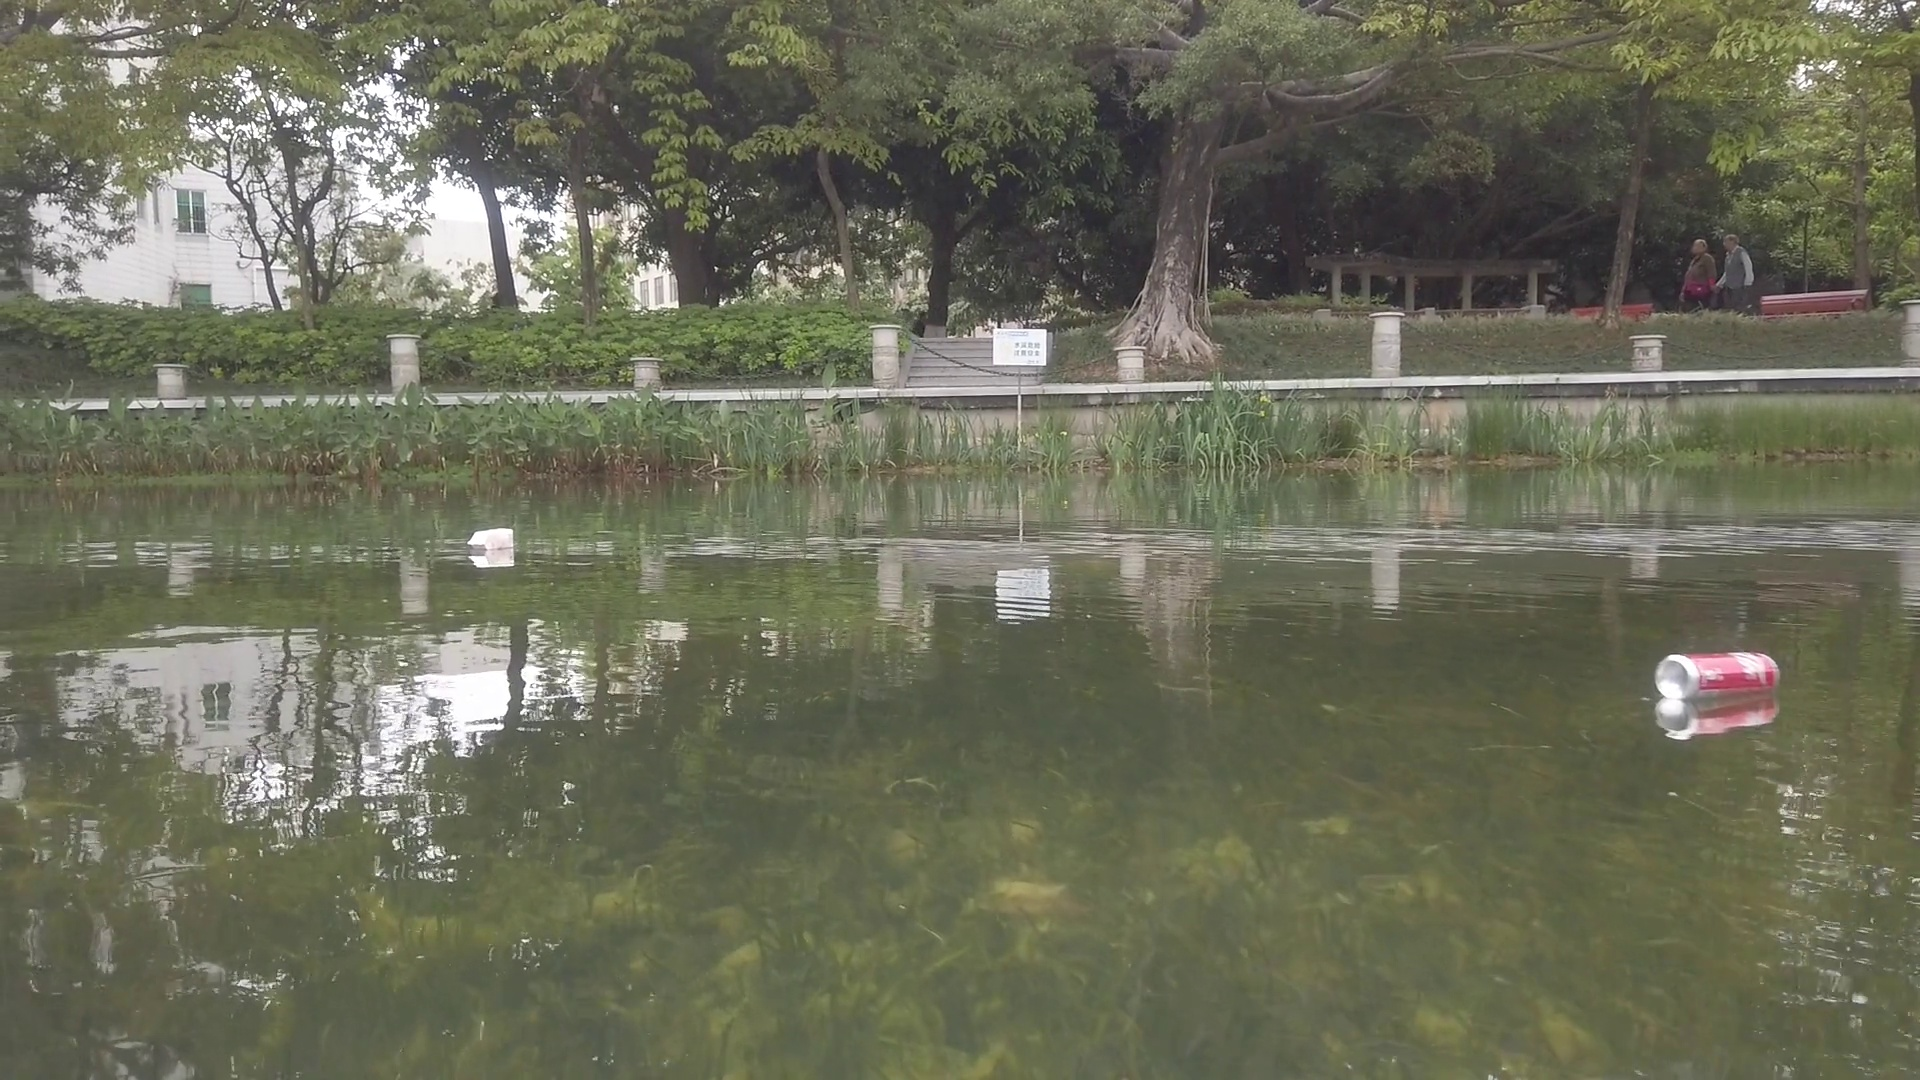bottle: (1652, 651, 1785, 695)
carton: (468, 529, 514, 551)
